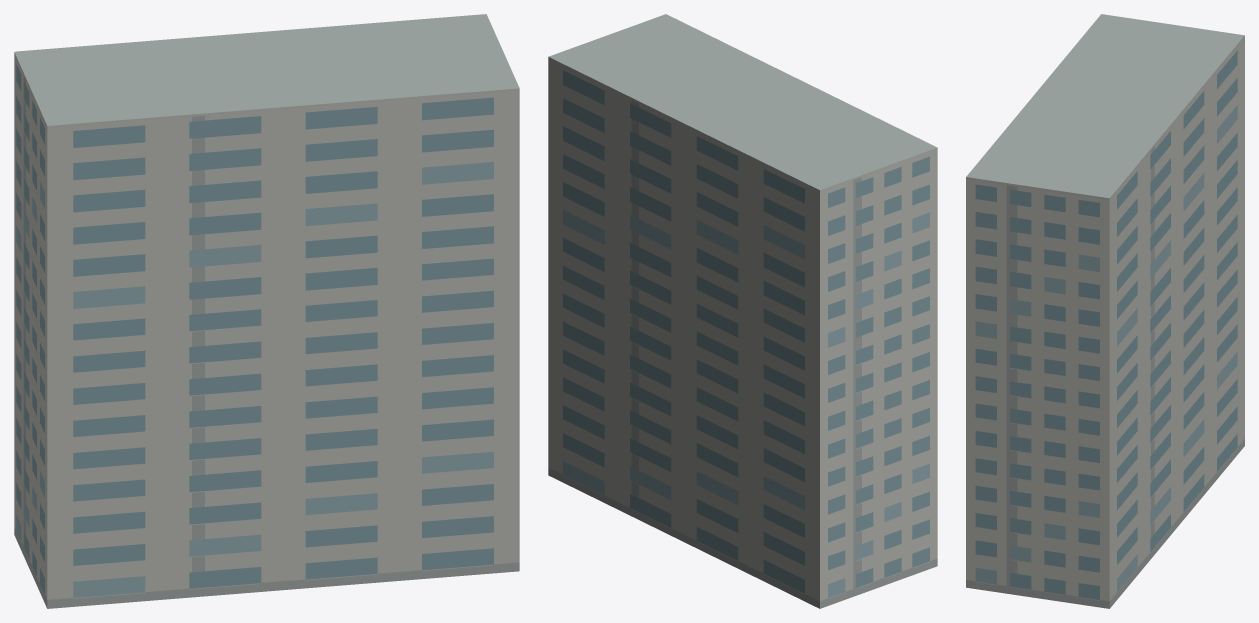
Rendered from residential-8c1da118-58a5-4520-8ba4-24d1ae8d291d.glb.
The picture shows the model from 3 angles, left to right: view 1: azimuth 30°, elevation 25°; view 2: azimuth 150°, elevation 25°; view 3: azimuth 270°, elevation 25°; orthographic projection. The views are drawn at different scales.
Visible parts, largest first — view 1: residential-8c1da118-58a5-4520-8ba4-24d1ae8d291d.tmp; view 2: residential-8c1da118-58a5-4520-8ba4-24d1ae8d291d.tmp; view 3: residential-8c1da118-58a5-4520-8ba4-24d1ae8d291d.tmp.
Part boxes in pixels (x1,y1,x2,y2): residential-8c1da118-58a5-4520-8ba4-24d1ae8d291d.tmp: (14, 14, 519, 608); residential-8c1da118-58a5-4520-8ba4-24d1ae8d291d.tmp: (548, 14, 937, 608); residential-8c1da118-58a5-4520-8ba4-24d1ae8d291d.tmp: (966, 14, 1244, 608).
Bounding box in the file's own units: 47.17 × 49 × 30.17.
